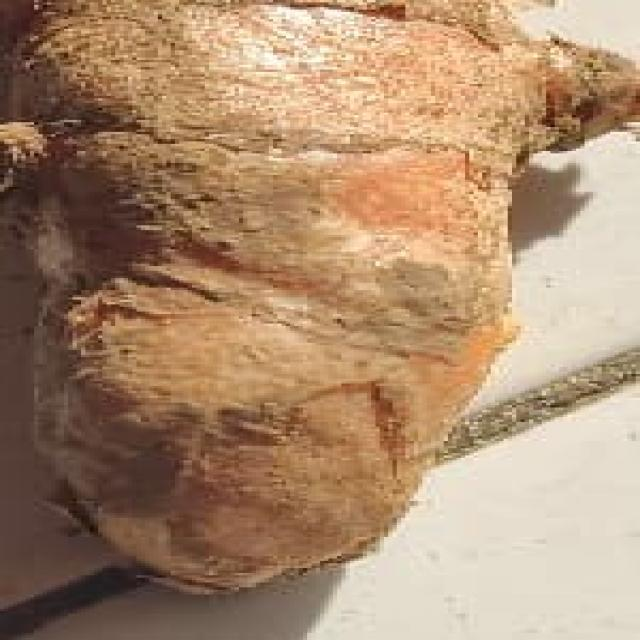ginger: (14, 1, 578, 572)
